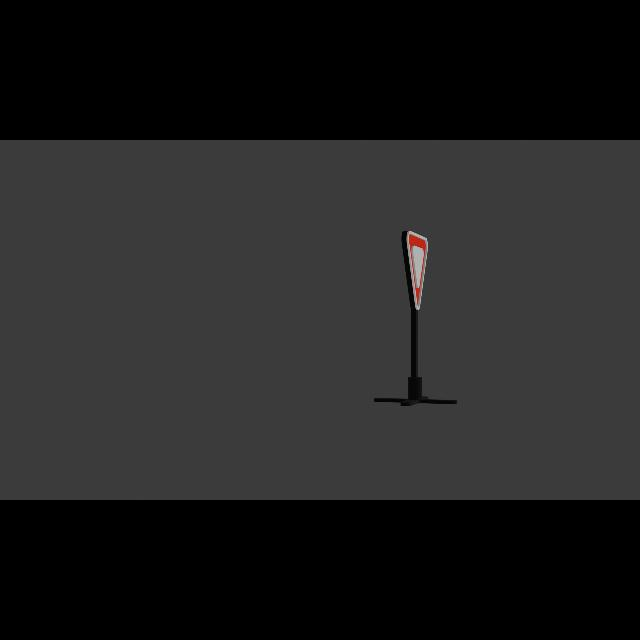sign_yield: (405, 232, 429, 312)
